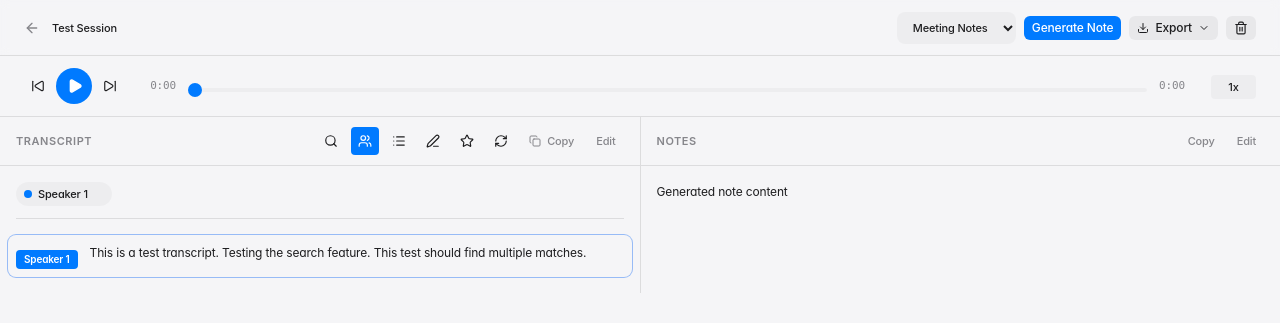
it: SessionDetail › Search Functionality › should find and display match count
// Open search
Step 1. Click the button named "Search (Cmd+F)" → click(331, 141), box [317,127,345,155]
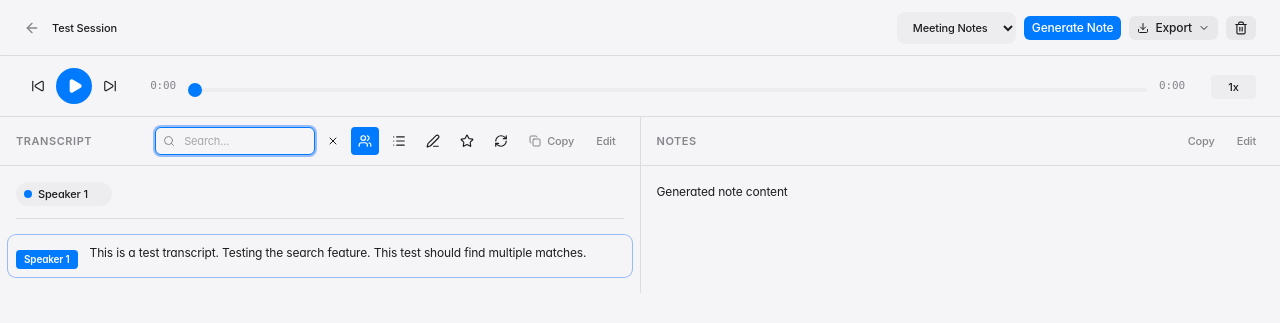
Result: the field with placeholder "Search..." is shown
// Type search query - "test" appears 3 times in the transcript
Step 2. Type "test" into the field with placeholder "Search..." → (235, 141), box [155,127,315,155]
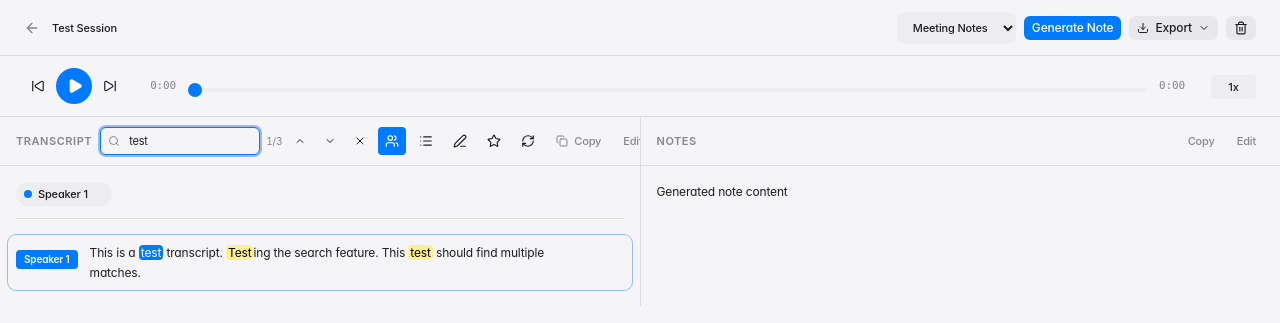
Result: the text "1/3" is shown at [266,134,282,148]
